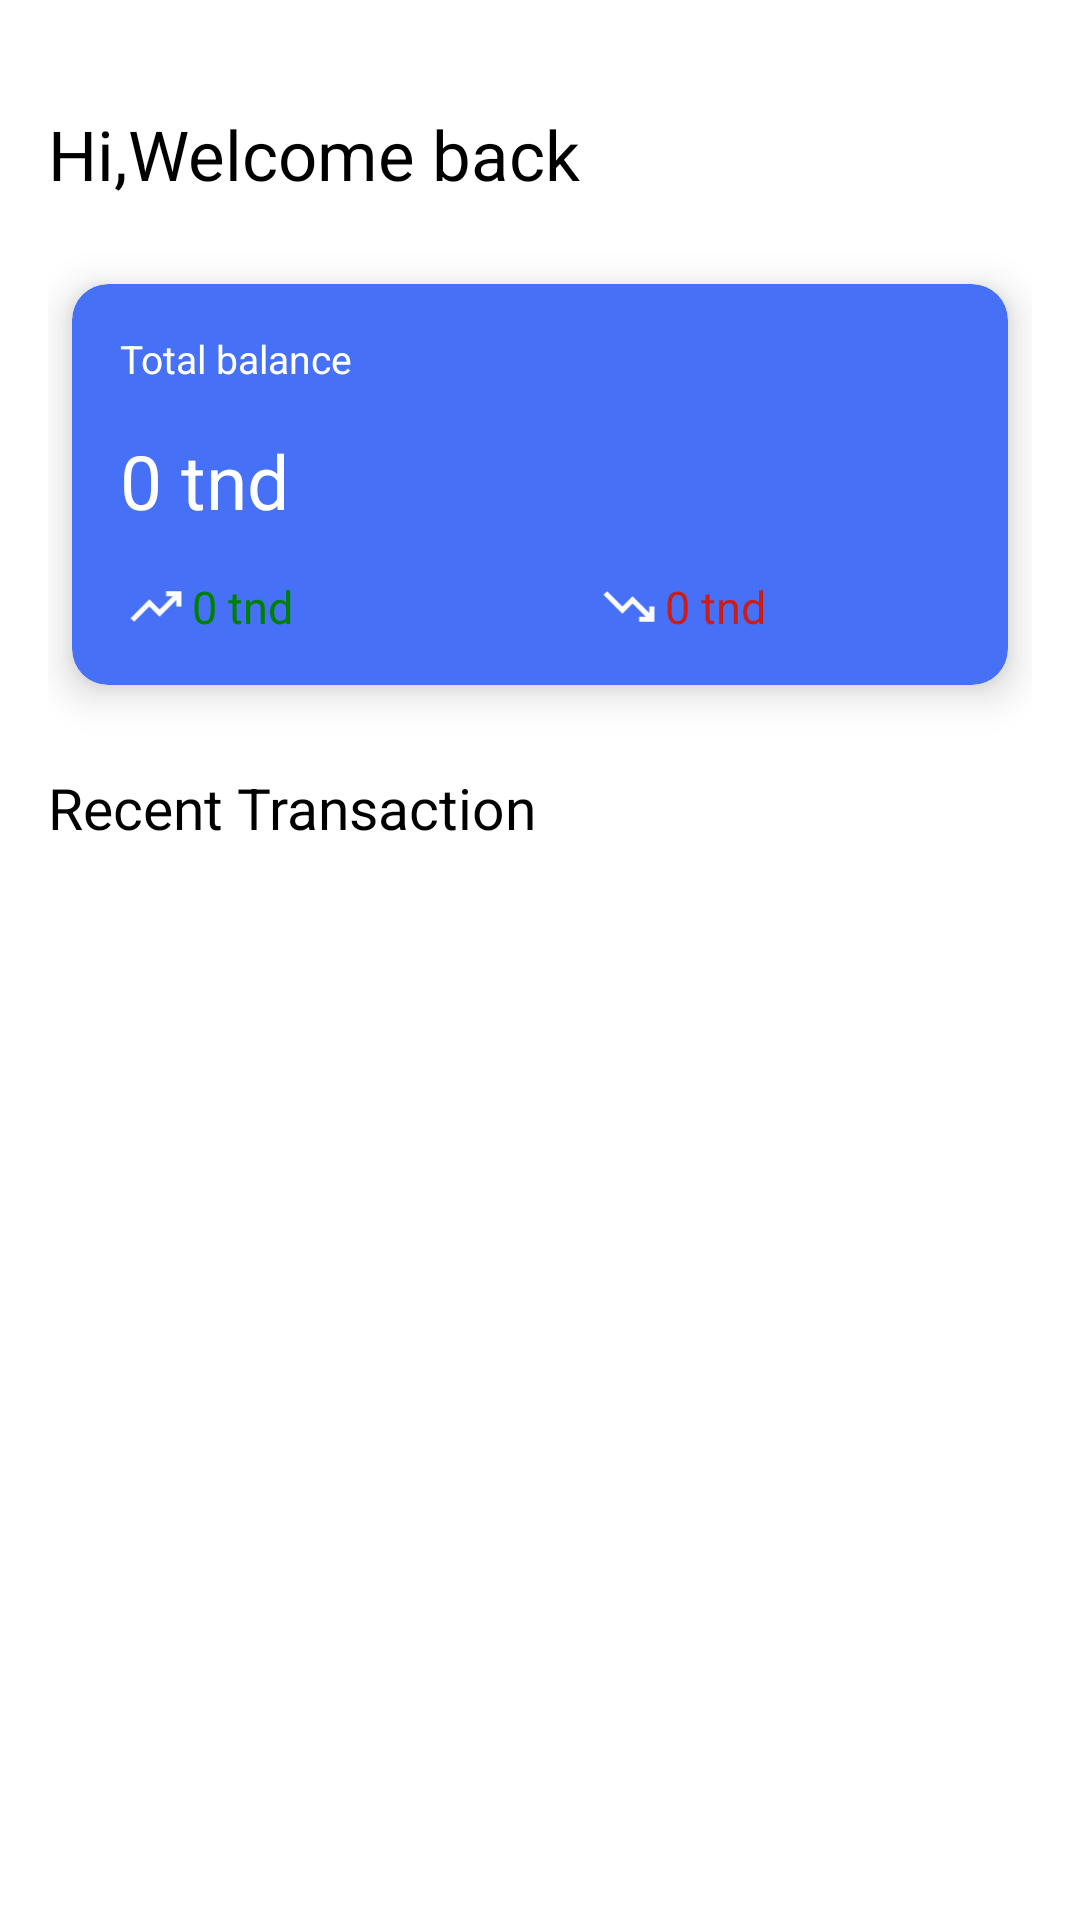

Where to tap for icons on this 1080x1920 app screen, as (x,y):
downw: (629,606)
upw: (156,606)
